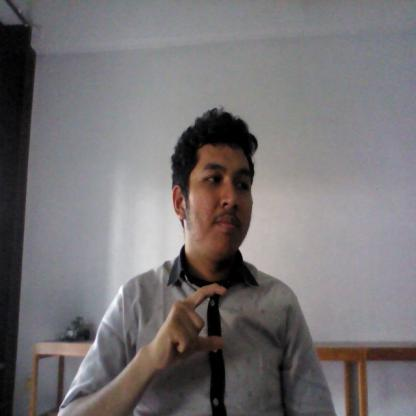C: (148, 282, 232, 376)
